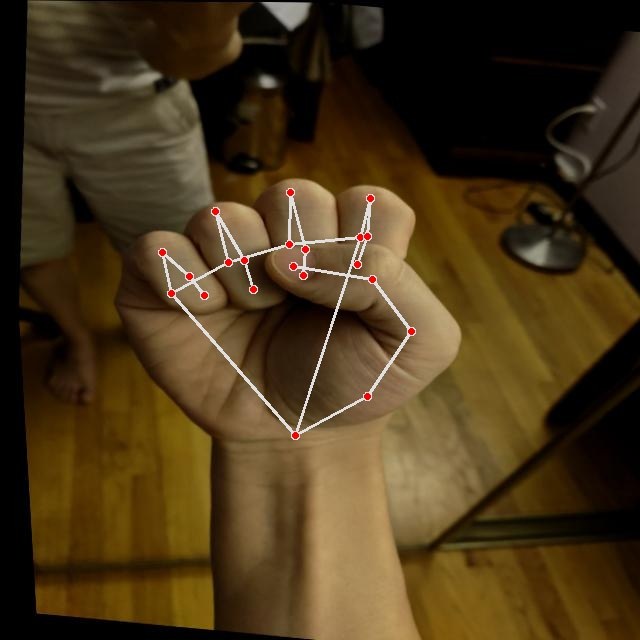S: (85, 154, 487, 470)
